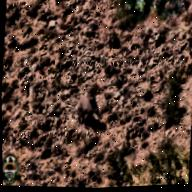boar: (75, 86, 103, 128)
